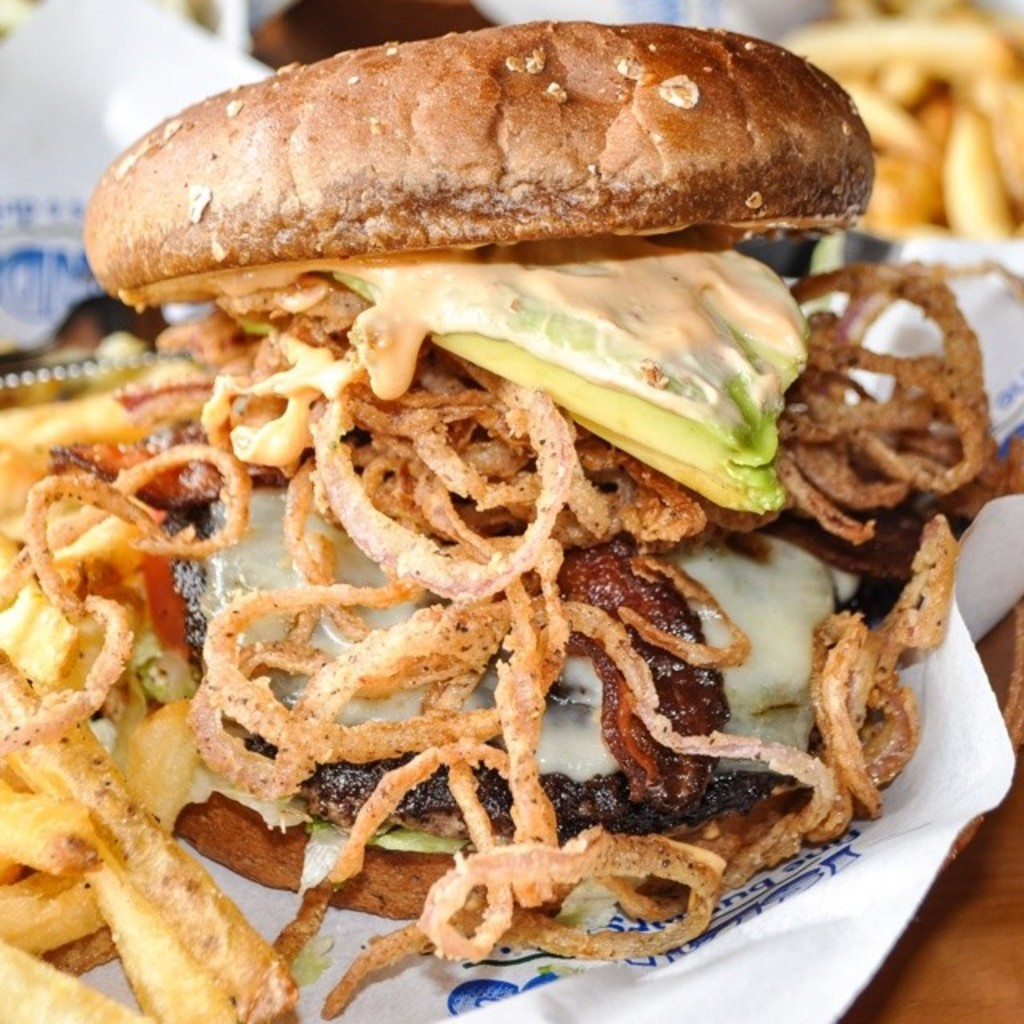Hamburger: (0, 22, 1022, 1022)
